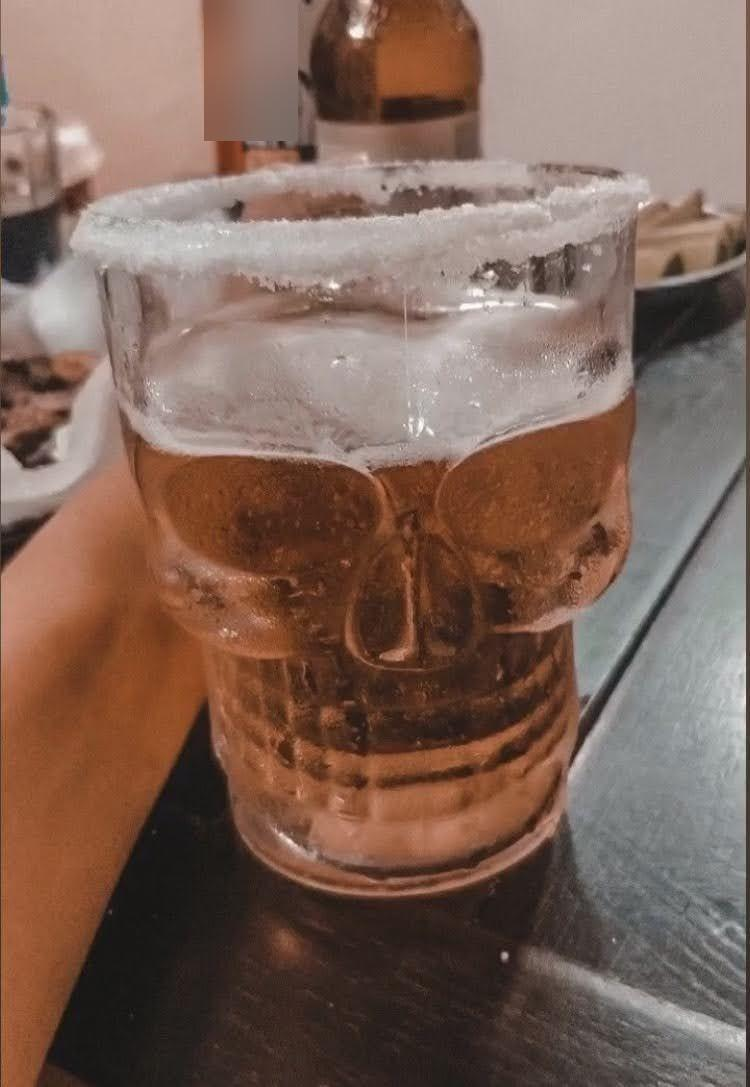bottle-glass: (312, 1, 487, 160)
glass-mug: (61, 157, 659, 913)
